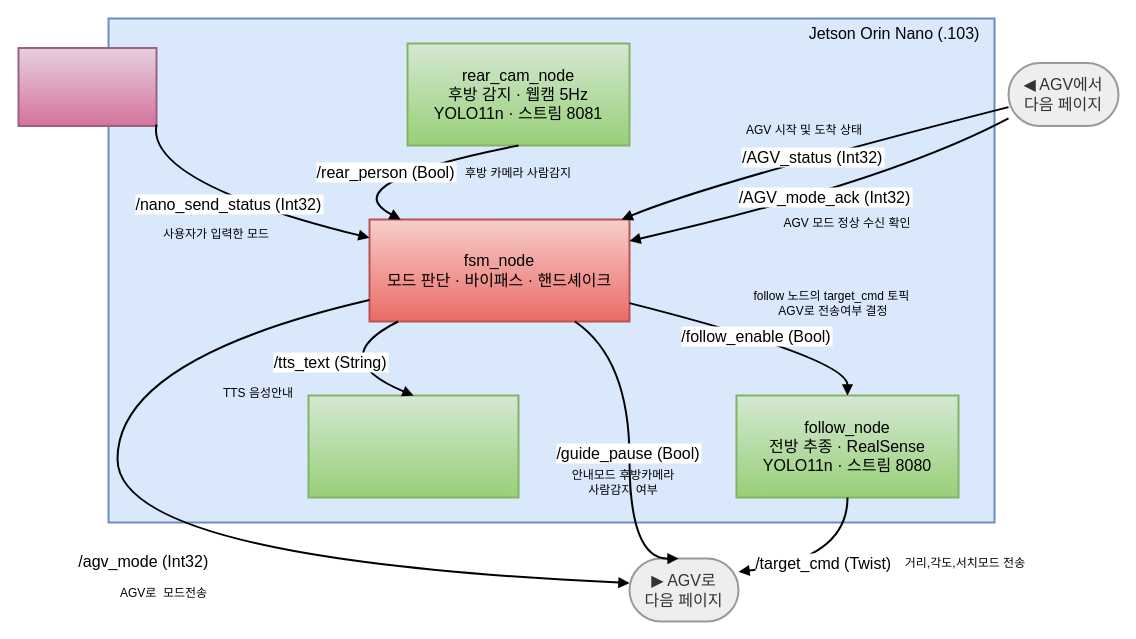
This 1136x639 diagram has some shape labels left out. Here are the shapes that lost their labels. From the top down, the box of each, then its label:
(17, 46, 157, 126): 웹 대시보드 (.155) 모드 버튼 전후방 영상
(307, 394, 519, 498): tts_node gTTS · mpg123 · 캐시 → 블루투스 스피커
